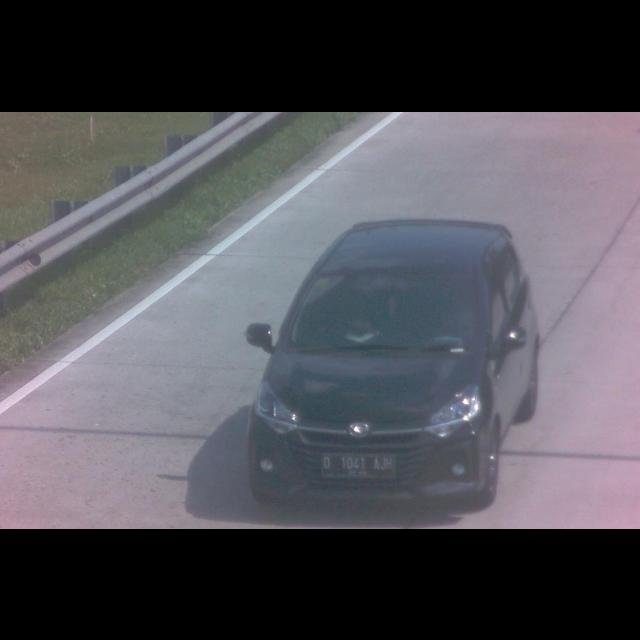plate: (321, 454, 397, 481)
